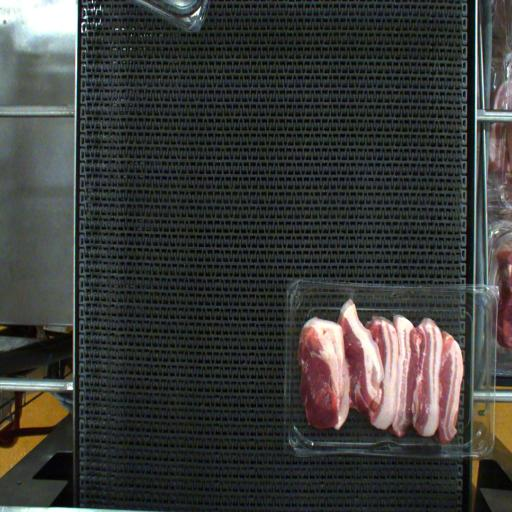packaging-error: (342, 280, 366, 313)
